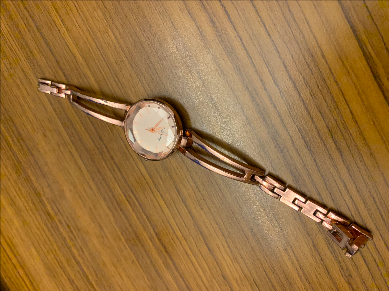object_name: (63, 96, 261, 187)
